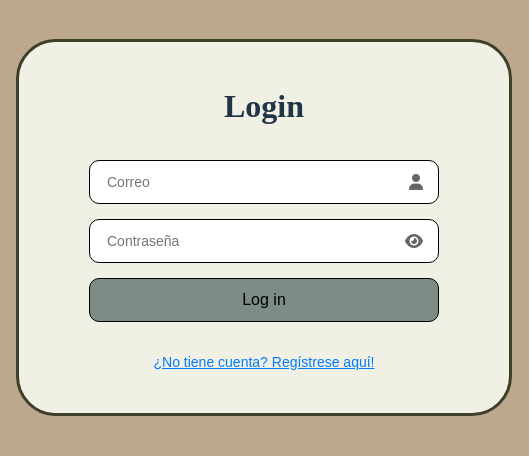
Test: Login › limpia el mensaje de error al escribir en los campos
Click the button "Log in". click: click(264, 300)
box: [89,278,439,322]
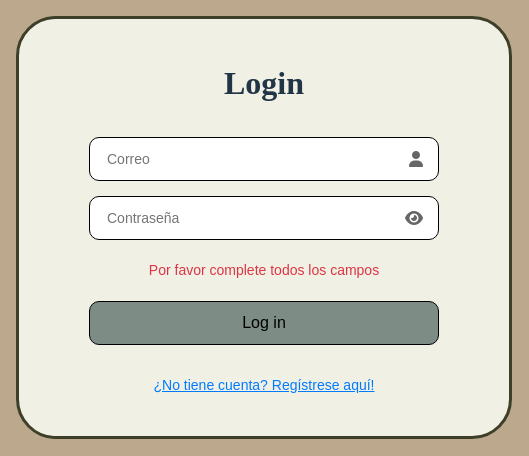
expect the text "Por favor complete todos los campos" is shown: met, box [149,260,379,280]
Type "t" into the field with placeholder "Correo". click: (252, 158)
box: [105,150,399,168]
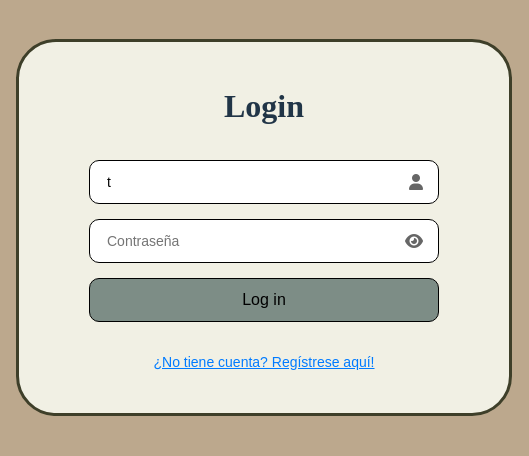
expect the text "Por favor complete todos los campos" is gone: met
